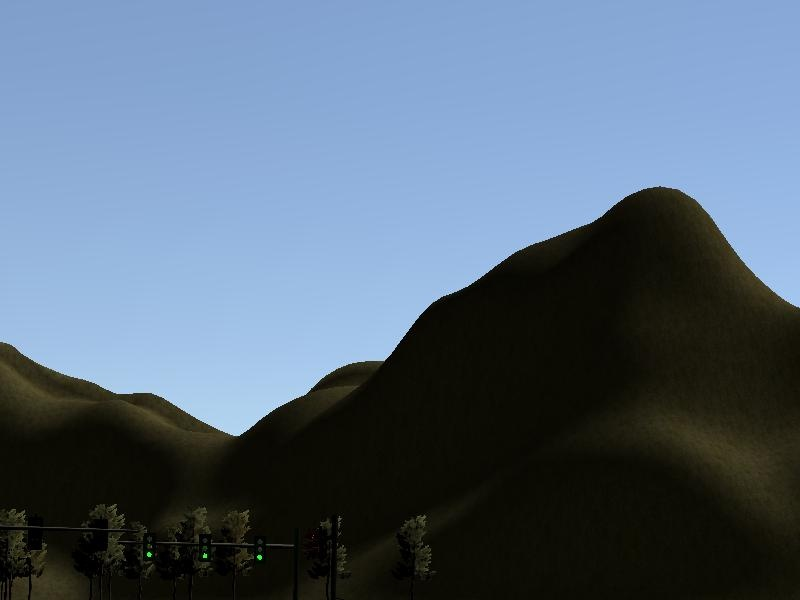GREEN: (196, 529, 212, 565), (139, 531, 157, 562), (253, 532, 269, 565)
